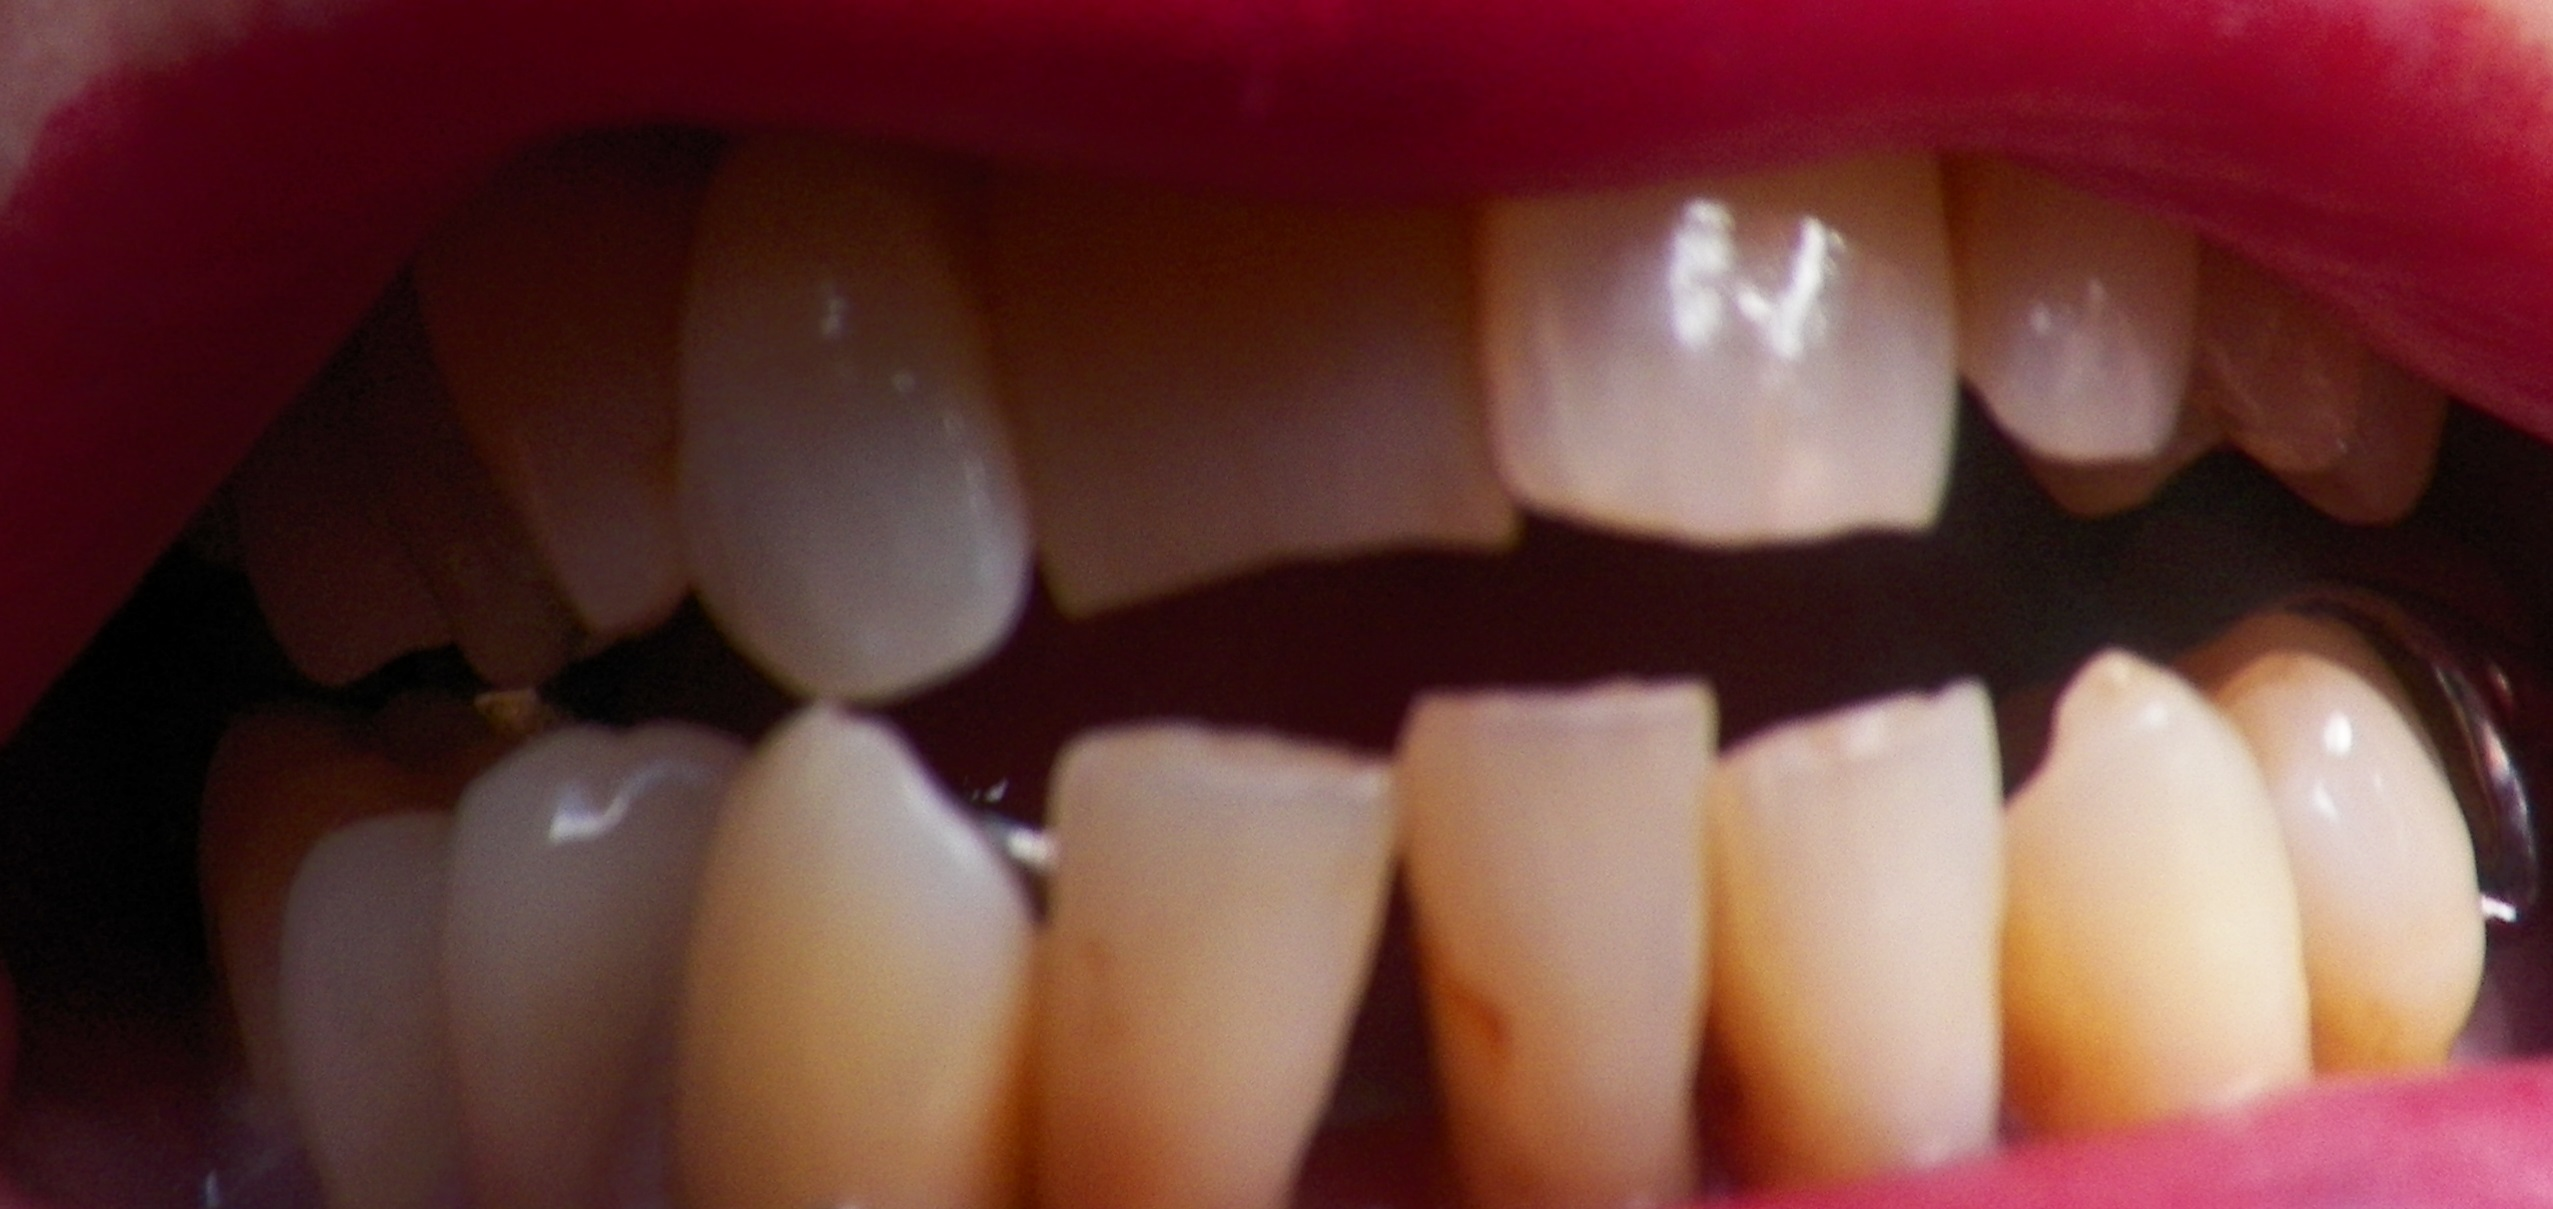boca: (194, 101, 2506, 1194)
